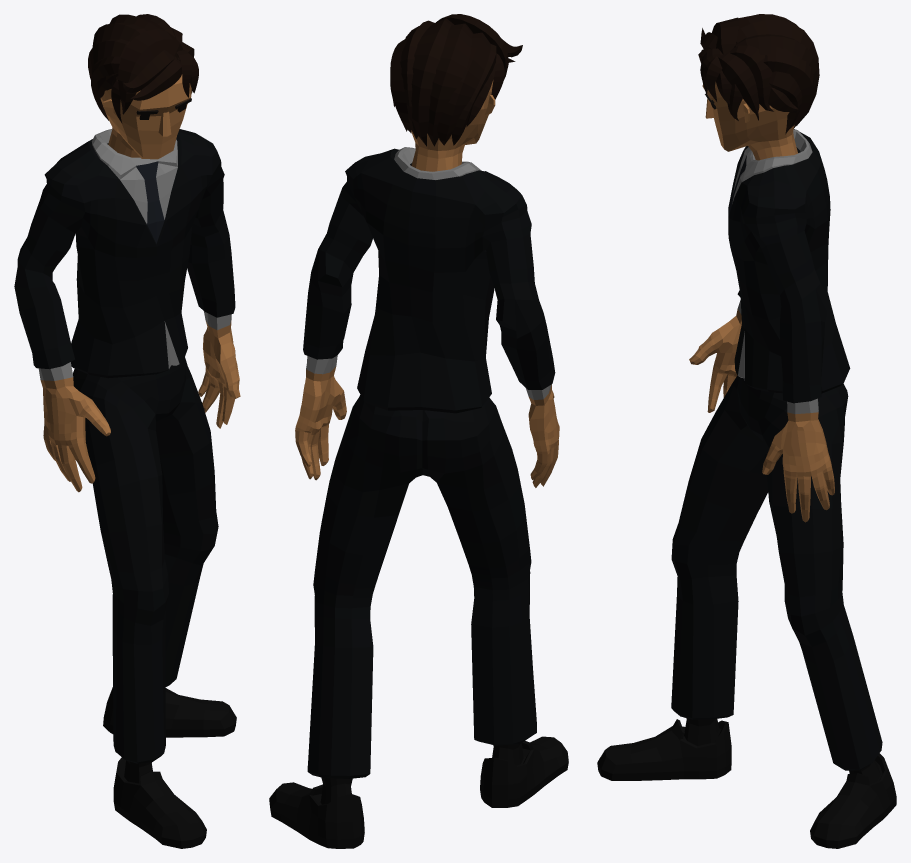
The picture shows the model from 3 angles, left to right: view 1: azimuth 30°, elevation 25°; view 2: azimuth 150°, elevation 25°; view 3: azimuth 270°, elevation 25°; orthographic projection. The views are drawn at different scales.
Visible parts, largest first — view 1: Suit_Body_static, Suit_Legs_static, Suit_Head_static, Suit_Feet_static; view 2: Suit_Body_static, Suit_Legs_static, Suit_Head_static, Suit_Feet_static; view 3: Suit_Legs_static, Suit_Body_static, Suit_Head_static, Suit_Feet_static.
Boxes of the visible parts, x1,y1,x2,y2 form: Suit_Body_static: (14,129,240,492); Suit_Legs_static: (73,357,218,763); Suit_Head_static: (88,14,198,159); Suit_Feet_static: (103,687,236,848); Suit_Body_static: (295,147,559,487); Suit_Legs_static: (307,395,536,778); Suit_Head_static: (390,14,522,171); Suit_Feet_static: (269,736,568,848); Suit_Legs_static: (671,375,882,770); Suit_Body_static: (689,129,850,522); Suit_Head_static: (698,14,819,160); Suit_Feet_static: (597,718,896,848).
Size of the model in its own units: 0.5967 by 1.82 by 0.6429.
